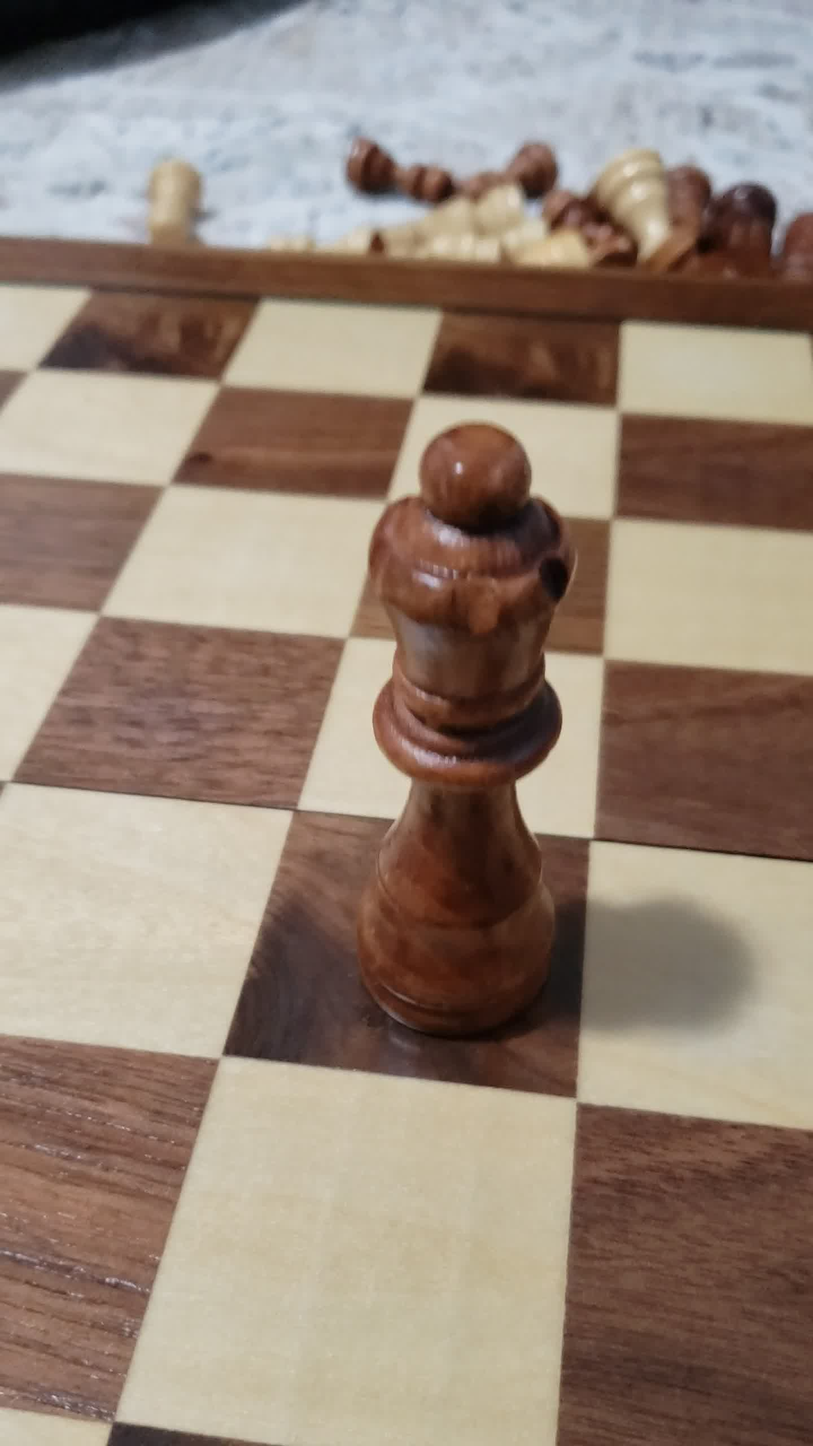black-queen: (344, 407, 613, 1053)
